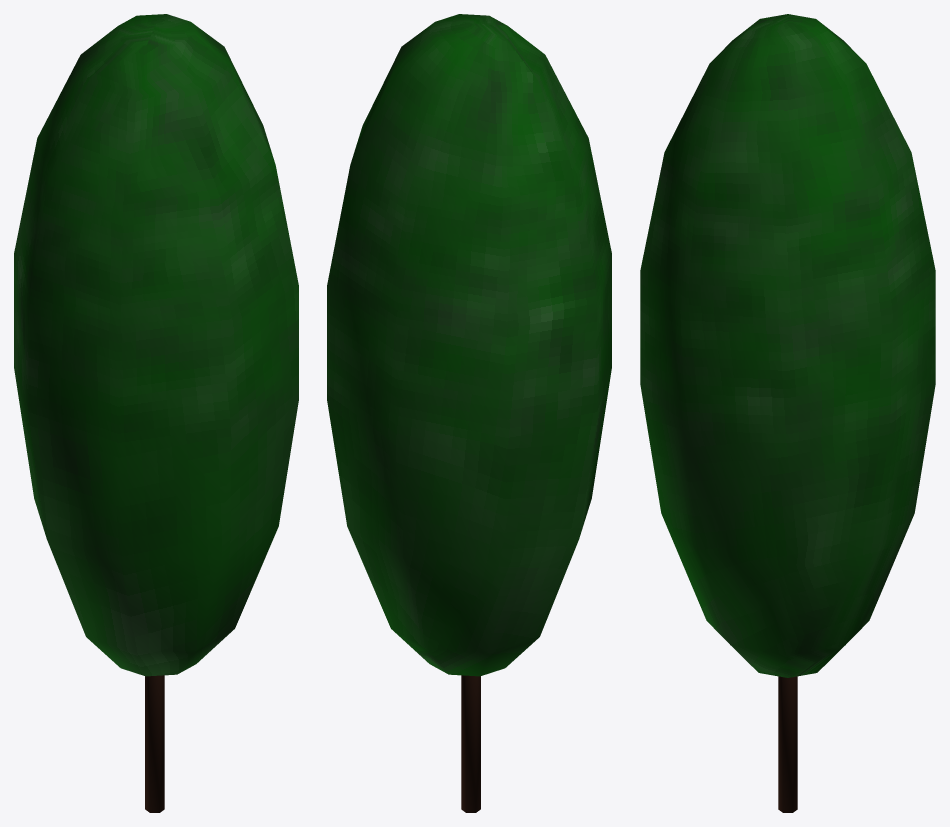
Rendered from treeA.obj.
3 views of the same model, side by side, from view 1: azimuth 30°, elevation 25°; view 2: azimuth 150°, elevation 25°; view 3: azimuth 270°, elevation 25° (orthographic).
Parts seen in each view (by area): view 1: Tree_A_TreeA, trunk; view 2: Tree_A_TreeA, trunk; view 3: Tree_A_TreeA, trunk.
Part boxes in pixels (x1=…): Tree_A_TreeA: x1=14, y1=14, x2=298, y2=676; trunk: x1=145, y1=675, x2=164, y2=812; Tree_A_TreeA: x1=327, y1=14, x2=611, y2=676; trunk: x1=461, y1=675, x2=480, y2=812; Tree_A_TreeA: x1=640, y1=14, x2=935, y2=677; trunk: x1=778, y1=676, x2=797, y2=812.
Size of the model in its own units: 0.5959 by 1.75 by 0.5959.
2 materials, 1 textured.
